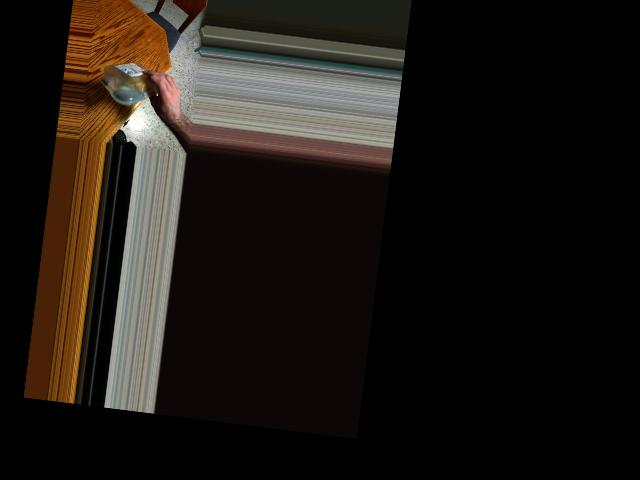cheese: (102, 61, 170, 104)
